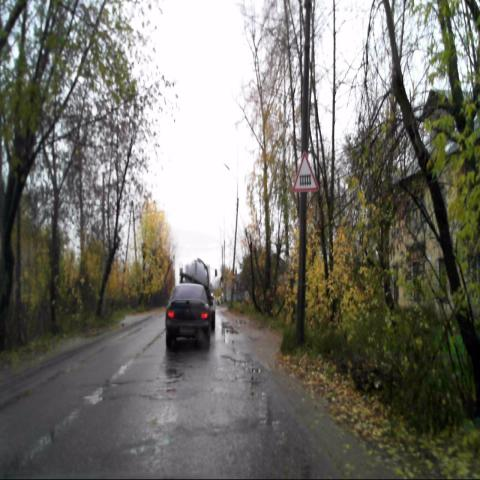1_1: (292, 150, 319, 192)
